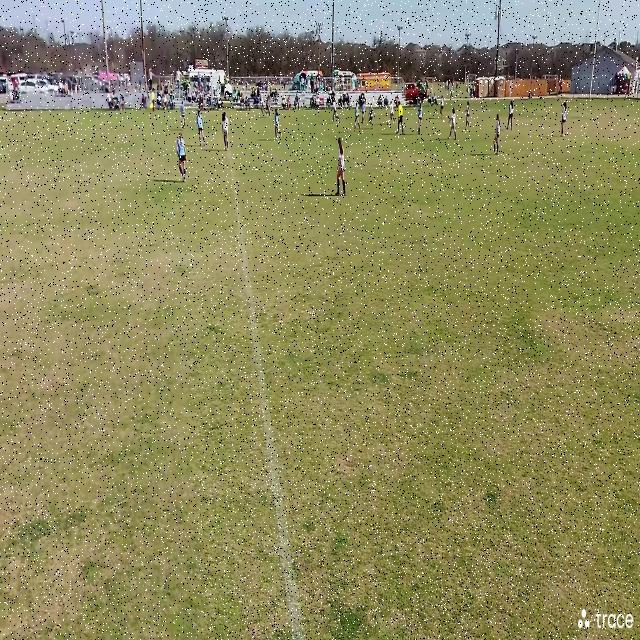Ball: (387, 119, 390, 125)
Referee: (397, 102, 404, 136)
TEAM 1: (177, 132, 188, 182), (196, 110, 206, 146), (273, 109, 282, 142), (180, 102, 188, 130), (418, 101, 423, 136), (362, 101, 366, 126)
TEAM 2: (335, 140, 349, 201), (220, 111, 229, 152), (560, 101, 568, 138), (506, 98, 514, 131), (331, 99, 340, 126), (495, 114, 501, 154), (451, 106, 458, 140), (354, 101, 360, 130), (464, 100, 470, 128), (390, 100, 397, 124), (369, 102, 375, 129), (440, 95, 445, 118)
